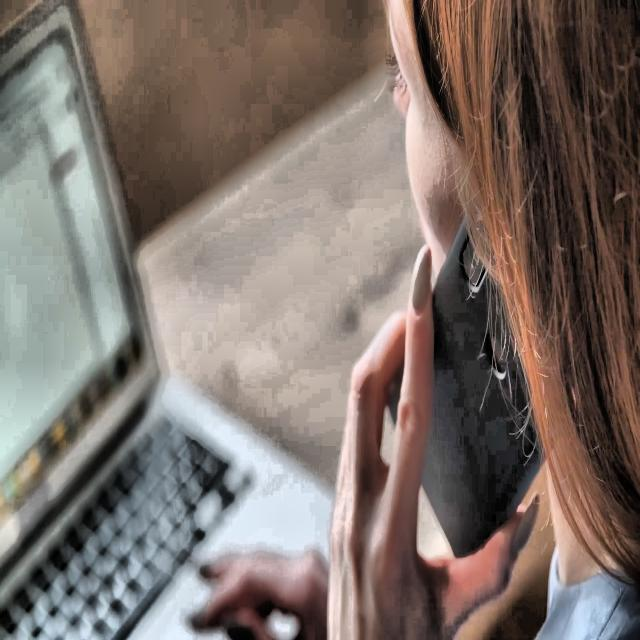Phone: (382, 190, 557, 570)
